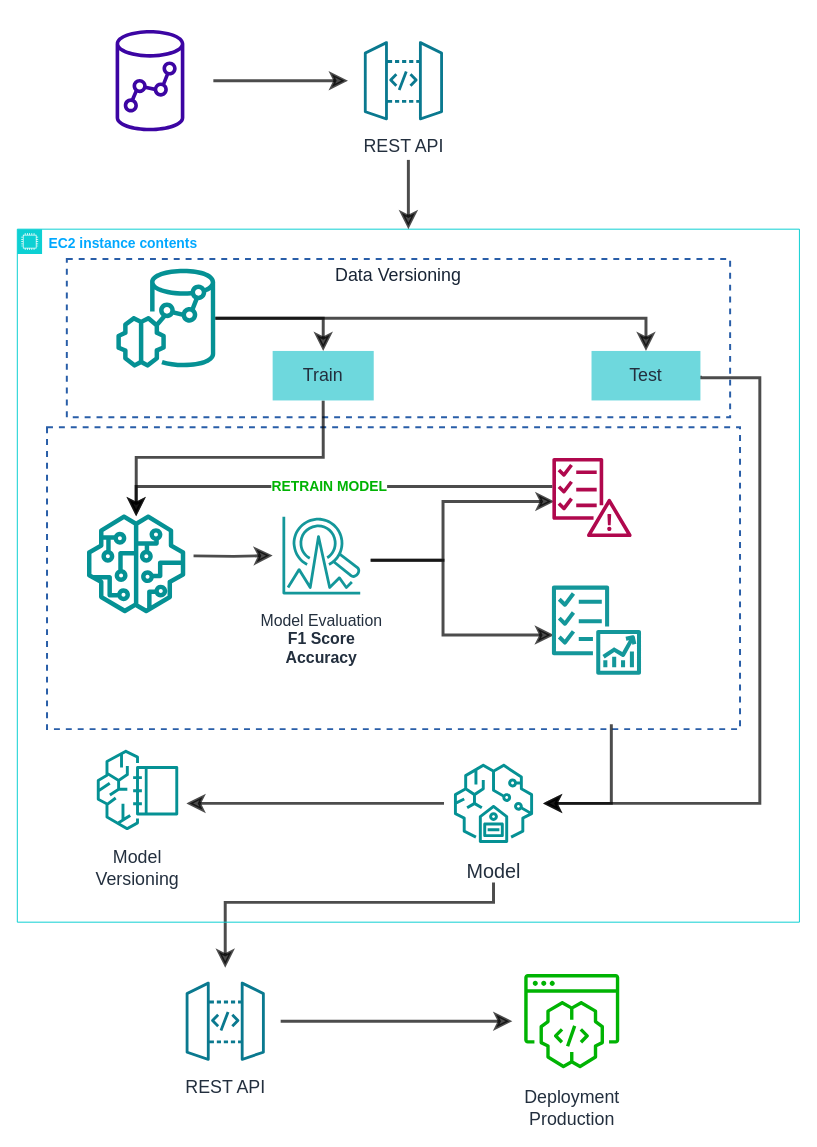
Image size: 817x1147. Some labels were removed from this diagram. Here are the shapes that lost their labels. From the top down, the box of each, then its label:
(86, 16, 213, 144): Readshift DataWarehouse
(551, 457, 632, 537): Bad Performace Metrics
(86, 514, 185, 613): Model Enginering Hyperparameters Tuning
(46, 426, 741, 730): Model Continuous TrainingPerformance Monitoring
(551, 585, 641, 674): Goord Performace Metrics
